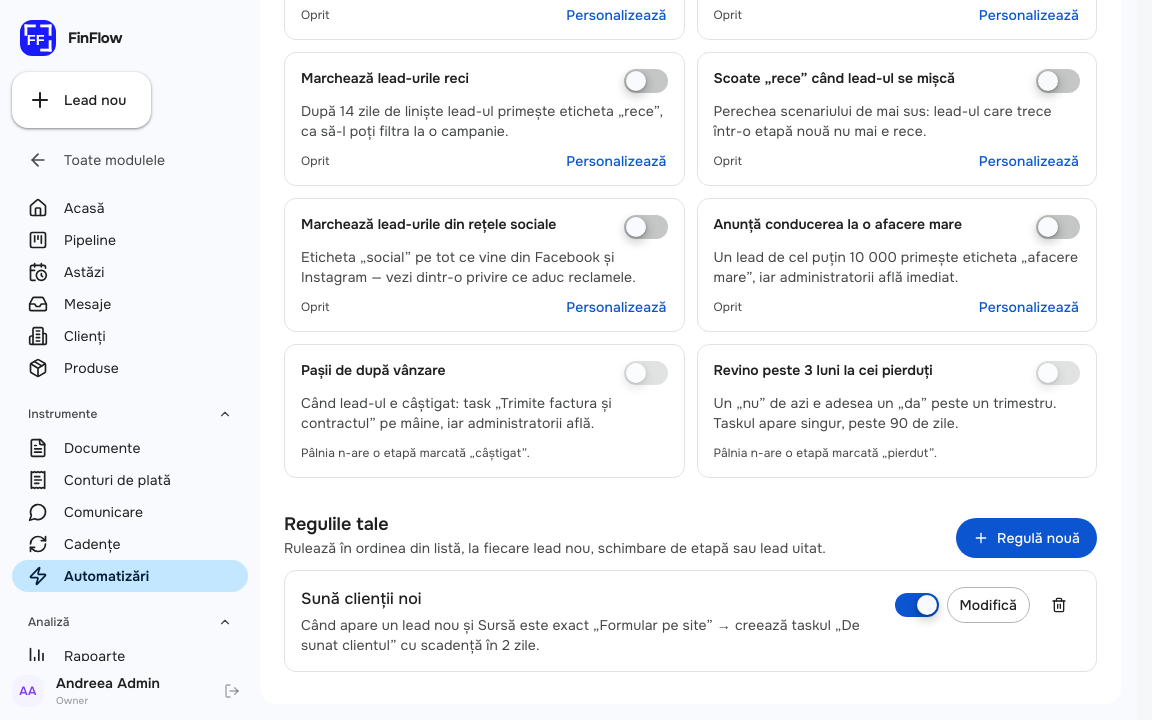
pagina de automatizări › dacă oprirea pică pe server, comutatorul revine — nu minte
(page scrolled)
Click the switch named "oprește regula" at (916, 605), box [894, 593, 938, 617]
(page scrolled)
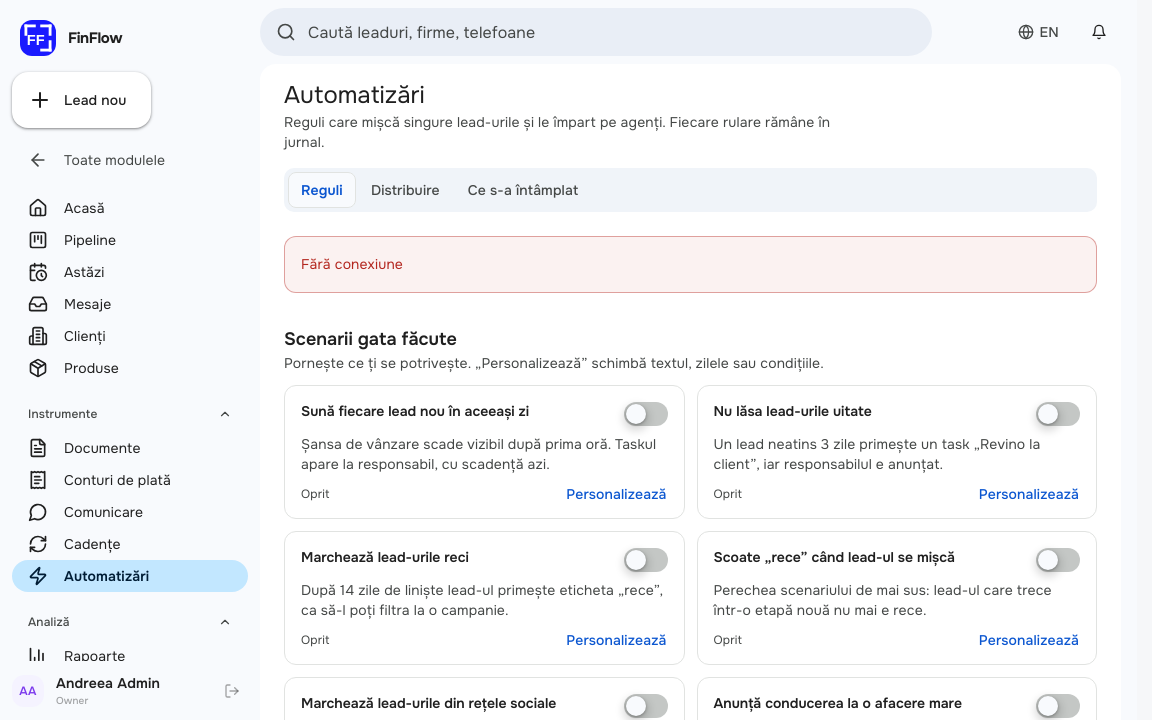
Now the text "Fără conexiune" is shown, box [301, 253, 403, 276]
